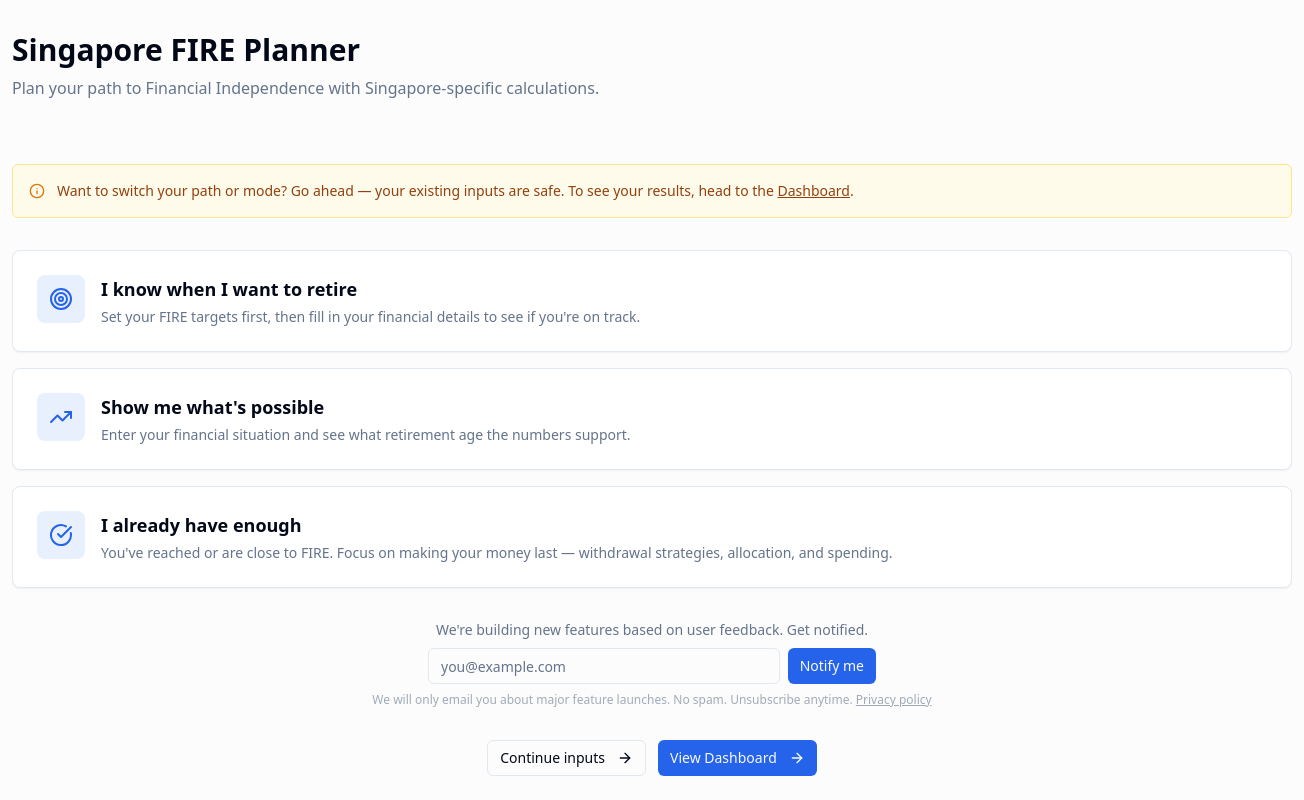
it: StartPage › toggles off pathway form when clicking same card again
Click the text "I know when I want to retire": (229, 289) [101,277,357,301]
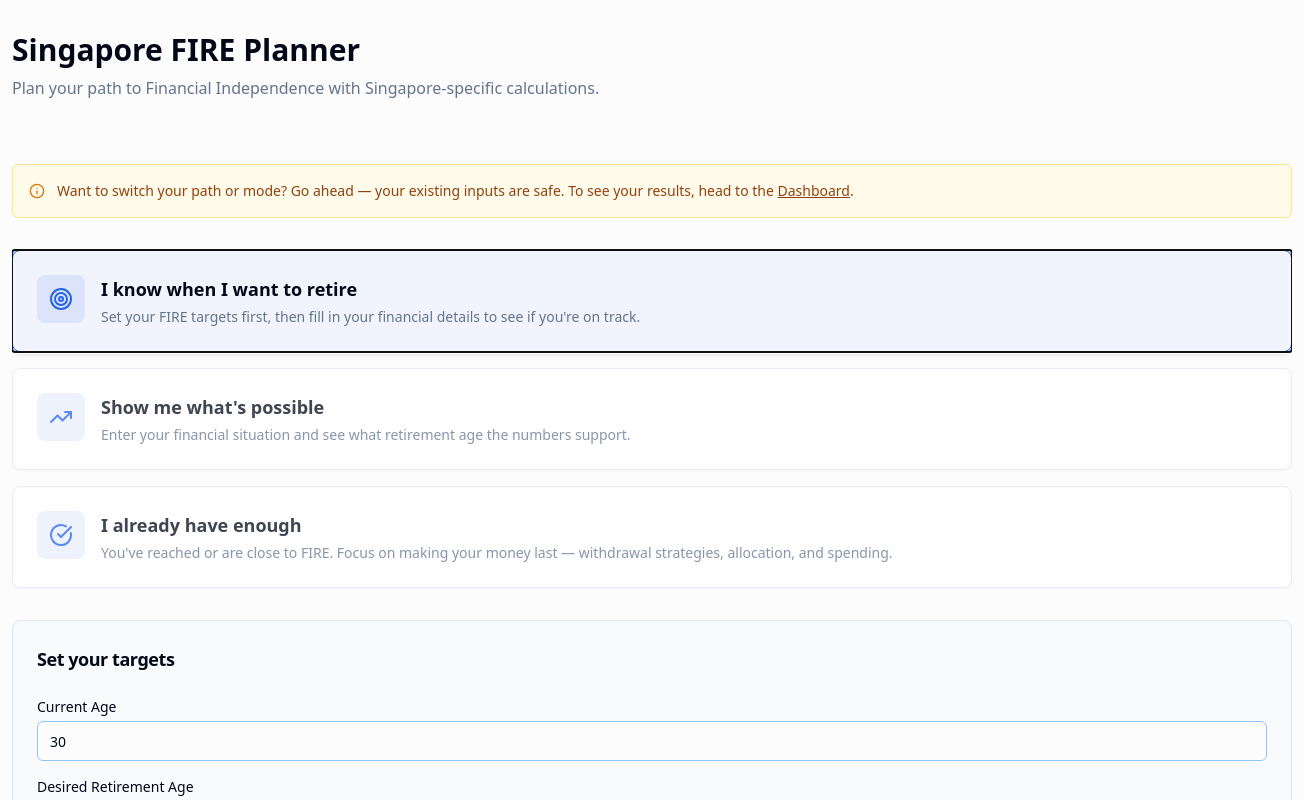
Now the text "Desired Retirement Age" is shown, box [37,777,194,796]
// Click again to toggle off
Click the text "I know when I want to retire": (229, 289) [101,277,357,301]
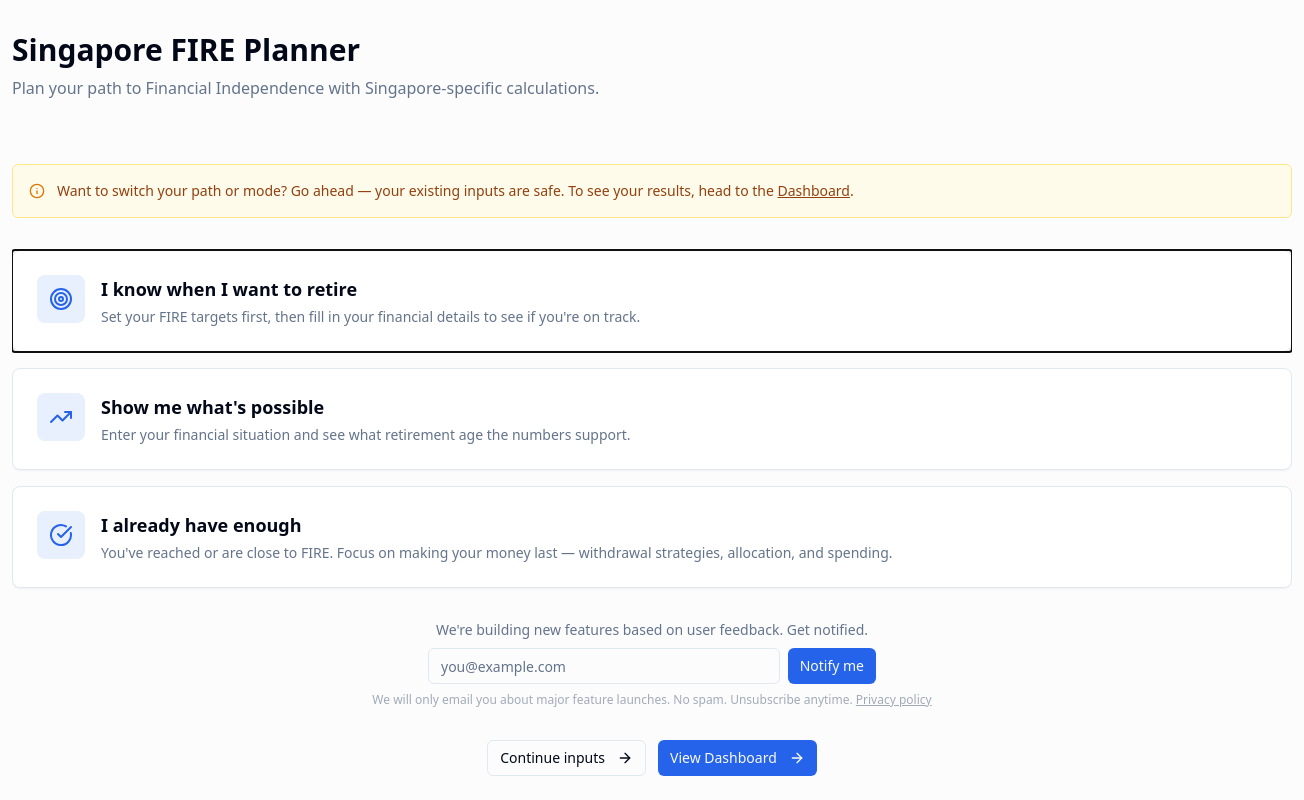
Now the text "Desired Retirement Age" is gone
